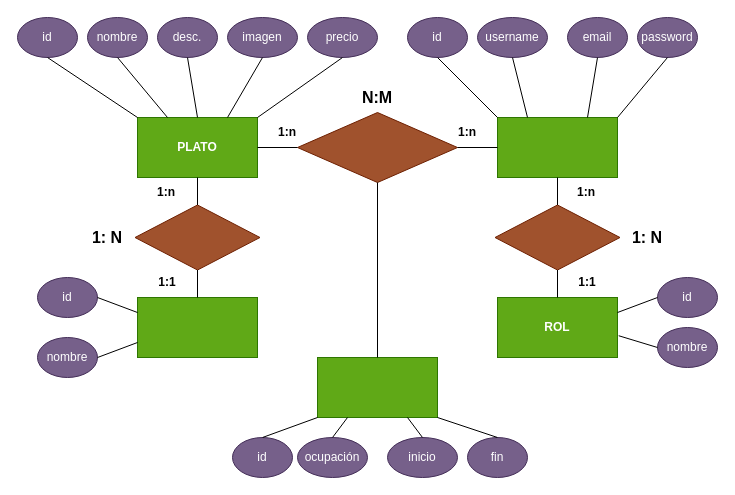
This 735x495 diagram has some shape labels left out. The centre of each missing label's shape, as x and y in pixels:
ASIGNAR: [557,237]
CATEGORIA: [197,327]
FRANJA: [377,387]
PEDIR: [377,147]
TENER: [197,237]
USUARIO: [557,147]
